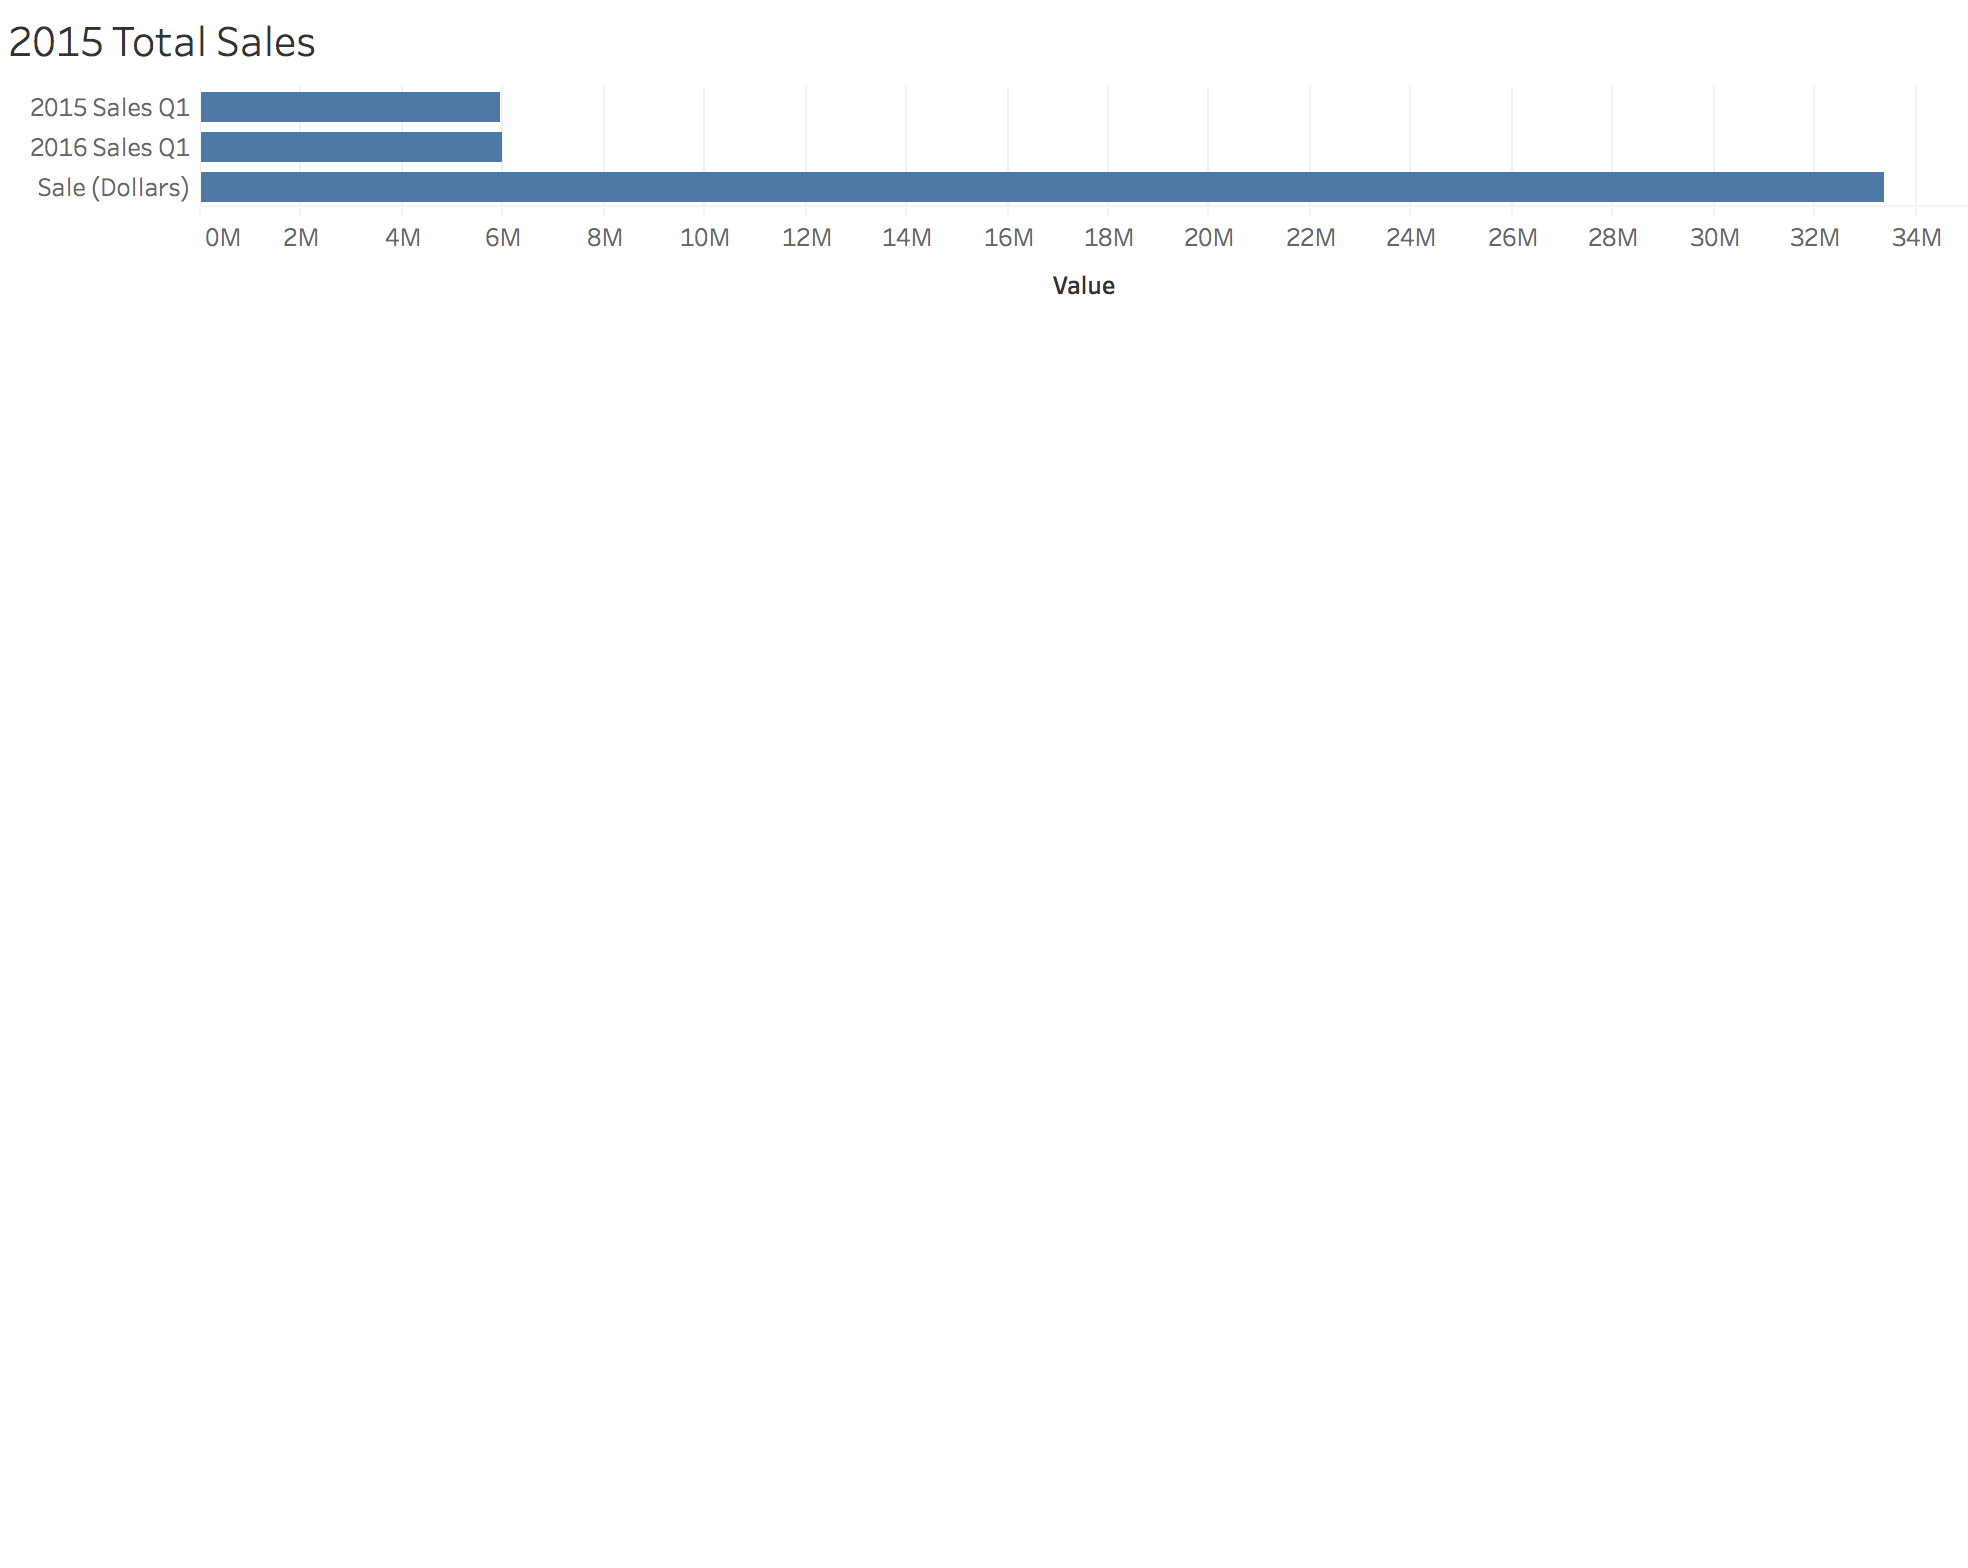

The dashboard page shown, as its layout file describes it:
{"tool":"tableau","page":{"name":"Dashboard 3","canvas":[1000,800],"ordinal":2},"visuals":[{"type":"worksheet","title":"Sheet 2","mark":"Automatic","rows":["track"],"cols":["Ranking"],"box":[0,0,1000,800]}]}

Visuals, with their boxes in screenshot pixels (x1, y1, x2, y2), scaled from the page's 1000x800 canvas onto the 1968x1568 screenshot:
"Sheet 2" worksheet: crop(0, 0, 1967, 1567)
